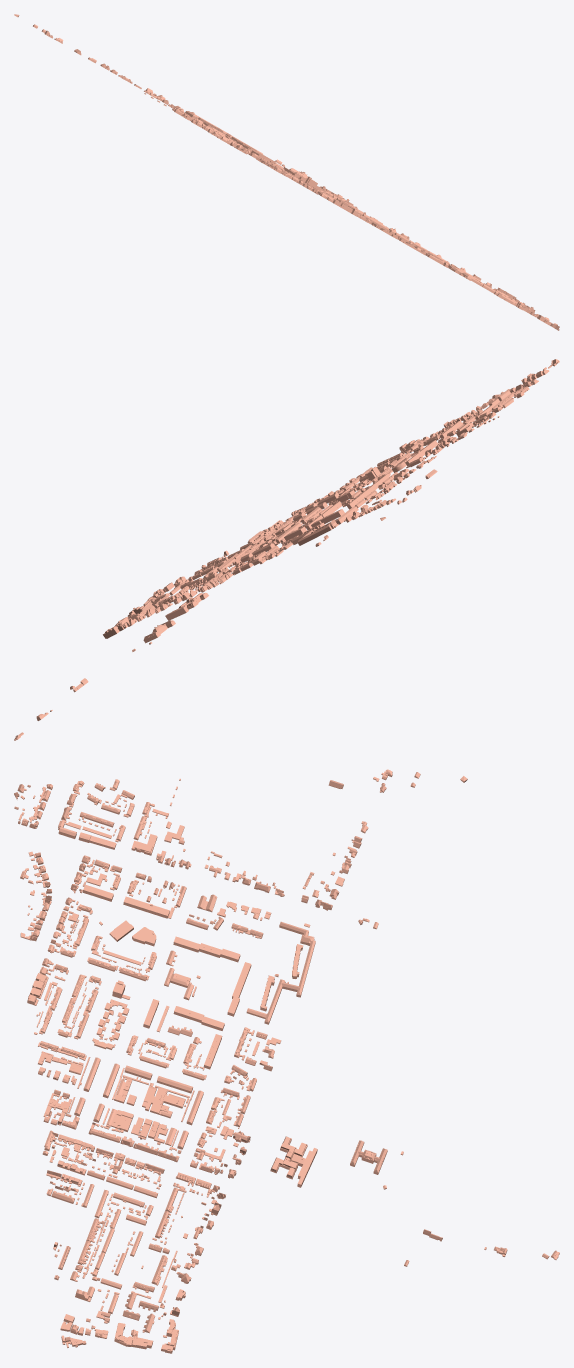
3 views of the same model, one above another, from view 1: azimuth 30°, elevation 25°; view 2: azimuth 150°, elevation 25°; view 3: azimuth 270°, elevation 25° (orthographic). The views are drawn at different scales.
Size of the model in its own units: 1010 by 755 by 1033.
